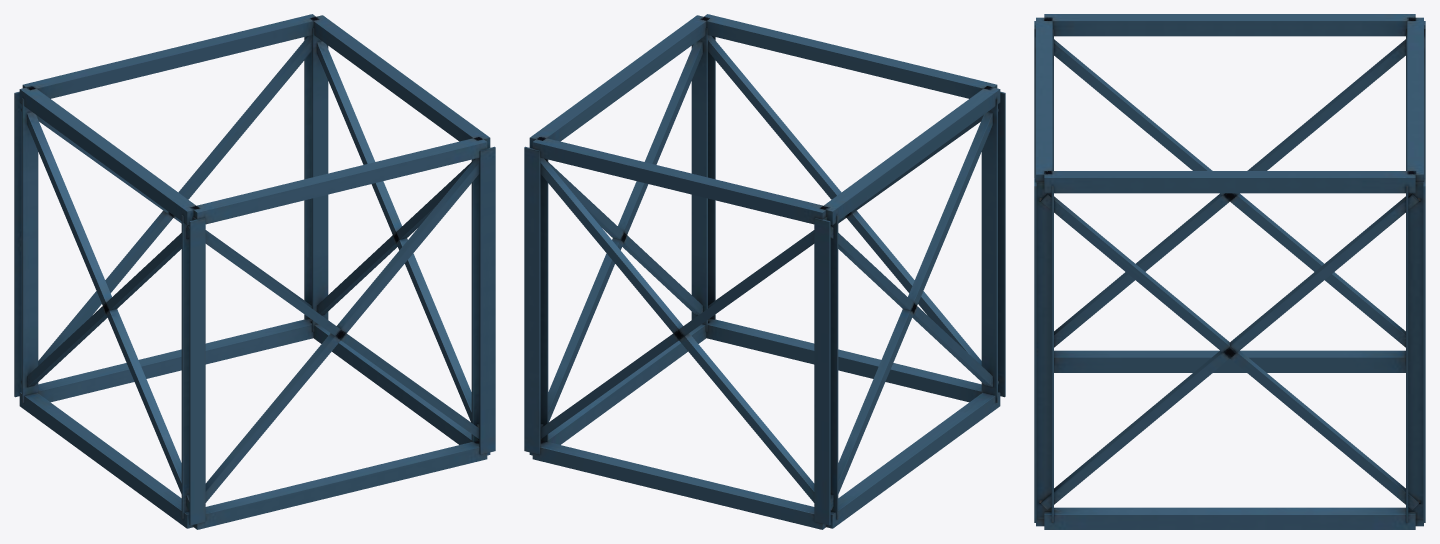
Rendered from rear_tower_v4_far.glb.
The picture shows the model from 3 angles, left to right: view 1: azimuth 30°, elevation 25°; view 2: azimuth 150°, elevation 25°; view 3: azimuth 270°, elevation 25°; orthographic projection. The views are drawn at different scales.
Visible parts, largest first — view 1: body; view 2: body; view 3: body.
Part boxes in pixels (<box>): body: <box>14,14,495,529</box>; body: <box>524,14,1005,529</box>; body: <box>1034,14,1425,529</box>.
Size of the model in its own units: 6.32 by 6.27 by 6.32.
1 material, 1 textured.
